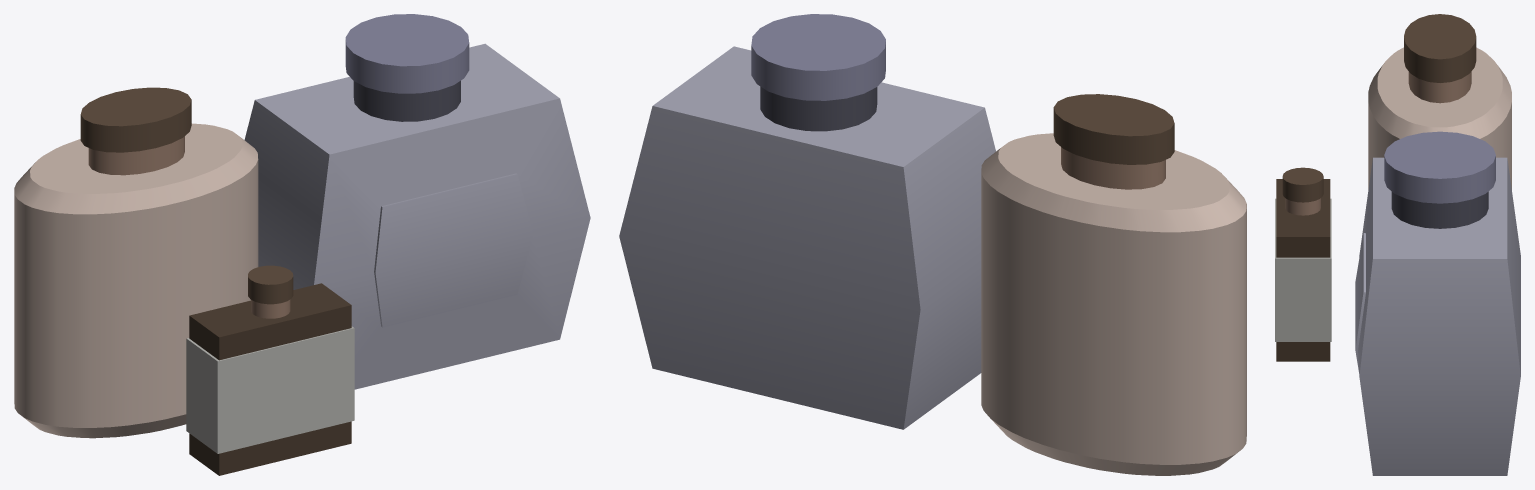
The model's file is colored perfumes.fbx.
3 views of the same model, side by side, from view 1: azimuth 30°, elevation 25°; view 2: azimuth 150°, elevation 25°; view 3: azimuth 270°, elevation 25° (orthographic). The views are drawn at different scales.
Visible parts, largest first — view 1: pCube1, pCylinder3, pCube3, pCube2, pCylinder2, pCylinder5, pCylinder1, pCylinder4, pCylinder7; view 2: pCube1, pCylinder3, pCylinder2, pCylinder5, pCylinder1, pCylinder4; view 3: pCube1, pCylinder3, pCylinder2, pCube3, pCylinder5, pCube2, pCylinder1, pCylinder7, pCylinder4, pCylinder6.
Part boxes in pixels (bbox=[...]): pCube1: bbox=[244, 43, 590, 389]; pCylinder3: bbox=[14, 123, 258, 438]; pCube3: bbox=[186, 326, 354, 453]; pCube2: bbox=[189, 283, 351, 475]; pCylinder2: bbox=[345, 14, 469, 93]; pCylinder5: bbox=[80, 87, 191, 152]; pCylinder1: bbox=[353, 80, 460, 121]; pCylinder4: bbox=[88, 136, 184, 175]; pCylinder7: bbox=[248, 265, 293, 304]; pCube1: bbox=[619, 46, 995, 429]; pCylinder3: bbox=[981, 133, 1246, 475]; pCylinder2: bbox=[751, 14, 885, 100]; pCylinder5: bbox=[1053, 94, 1174, 164]; pCylinder1: bbox=[760, 86, 877, 131]; pCylinder4: bbox=[1061, 147, 1165, 189]; pCube1: bbox=[1355, 157, 1520, 475]; pCylinder3: bbox=[1368, 47, 1511, 189]; pCylinder2: bbox=[1384, 131, 1495, 203]; pCube3: bbox=[1275, 198, 1331, 341]; pCylinder5: bbox=[1404, 14, 1476, 82]; pCube2: bbox=[1276, 179, 1330, 361]; pCylinder1: bbox=[1391, 191, 1488, 228]; pCylinder7: bbox=[1282, 167, 1323, 202]; pCylinder4: bbox=[1408, 71, 1471, 103]; pCylinder6: bbox=[1285, 198, 1320, 215].
Bounding box in the file's own units: 0.1801 × 0.0988 × 0.0812.
